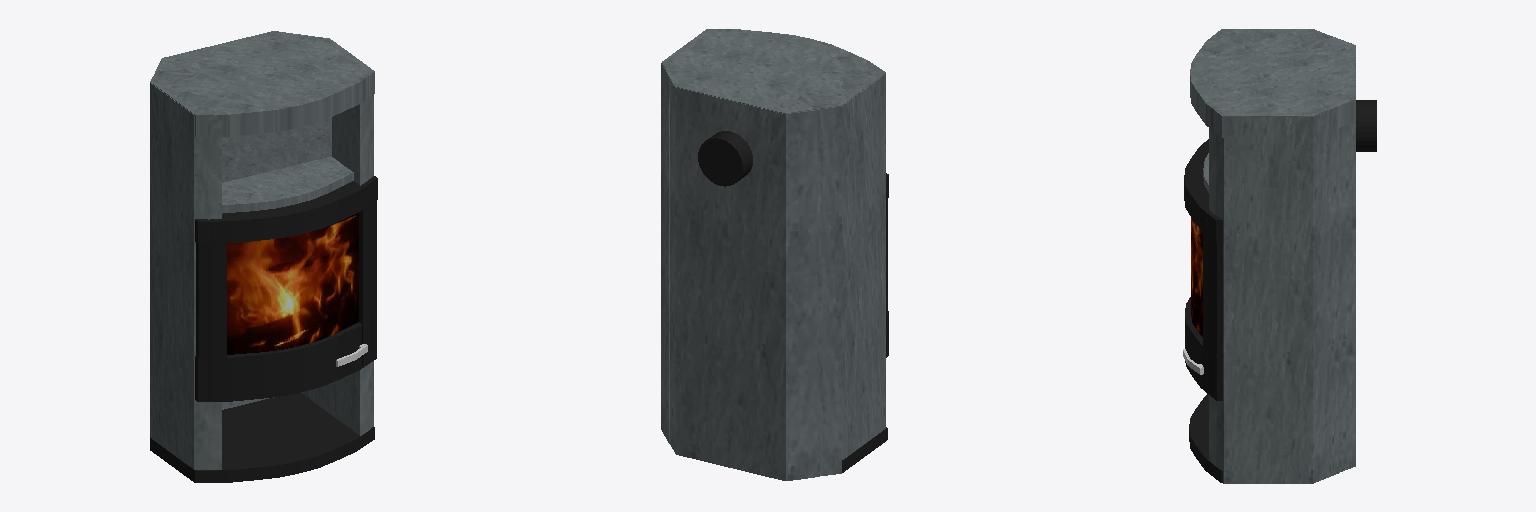
3 renders of one model, left to right at view 1: azimuth 30°, elevation 25°; view 2: azimuth 150°, elevation 25°; view 3: azimuth 270°, elevation 25°, orthographic.
Visible parts, largest first — view 1: Extruded_Object_4_4, Extruded_Object_1_1, Extruded_Object_9_10, Extruded_Object_2_2, Extruded_Object_7_8, Extruded_Object_5_5, Extruded_Object_8_9, Extruded_Object_4_1_11, Extruded_Object_3_1_7, Cube_2_16, Extruded_Object_4_2_12; view 2: Extruded_Object_6_6, Extruded_Object_4_4, Extruded_Object_1_1, Extruded_Object_5_5, Cylinder_1_15, Extruded_Object_2_2; view 3: Extruded_Object_5_5, Extruded_Object_1_1, Extruded_Object_6_6, Extruded_Object_4_2_12, Extruded_Object_8_9, Extruded_Object_2_2, Extruded_Object_7_8, Extruded_Object_9_10, Cylinder_1_15.
Boxes of the visible parts, x1=… form: Extruded_Object_4_4: x1=150, y1=72, x2=221, y2=469; Extruded_Object_1_1: x1=151, y1=31, x2=374, y2=136; Extruded_Object_9_10: x1=227, y1=213, x2=358, y2=354; Extruded_Object_2_2: x1=150, y1=393, x2=374, y2=482; Extruded_Object_7_8: x1=195, y1=315, x2=376, y2=401; Extruded_Object_5_5: x1=301, y1=95, x2=373, y2=435; Extruded_Object_8_9: x1=195, y1=176, x2=377, y2=243; Extruded_Object_4_1_11: x1=196, y1=226, x2=226, y2=399; Extruded_Object_3_1_7: x1=222, y1=156, x2=353, y2=213; Cube_2_16: x1=222, y1=117, x2=331, y2=182; Extruded_Object_4_2_12: x1=359, y1=189, x2=376, y2=365; Extruded_Object_6_6: x1=670, y1=87, x2=816, y2=480; Extruded_Object_4_4: x1=810, y1=74, x2=885, y2=476; Extruded_Object_1_1: x1=662, y1=29, x2=885, y2=113; Extruded_Object_5_5: x1=661, y1=63, x2=669, y2=443; Cylinder_1_15: x1=698, y1=131, x2=752, y2=186; Extruded_Object_2_2: x1=842, y1=427, x2=887, y2=472; Extruded_Object_5_5: x1=1209, y1=107, x2=1338, y2=483; Extruded_Object_1_1: x1=1190, y1=29, x2=1355, y2=137; Extruded_Object_6_6: x1=1335, y1=37, x2=1355, y2=472; Extruded_Object_4_2_12: x1=1203, y1=216, x2=1222, y2=394; Extruded_Object_8_9: x1=1184, y1=139, x2=1222, y2=241; Extruded_Object_2_2: x1=1189, y1=394, x2=1222, y2=482; Extruded_Object_7_8: x1=1185, y1=297, x2=1222, y2=400; Extruded_Object_9_10: x1=1191, y1=218, x2=1202, y2=336; Cylinder_1_15: x1=1356, y1=100, x2=1376, y2=151.
Size of the model in its own units: 0.5136 by 1 by 0.4791.
Materials: 6 (2 with a texture image).